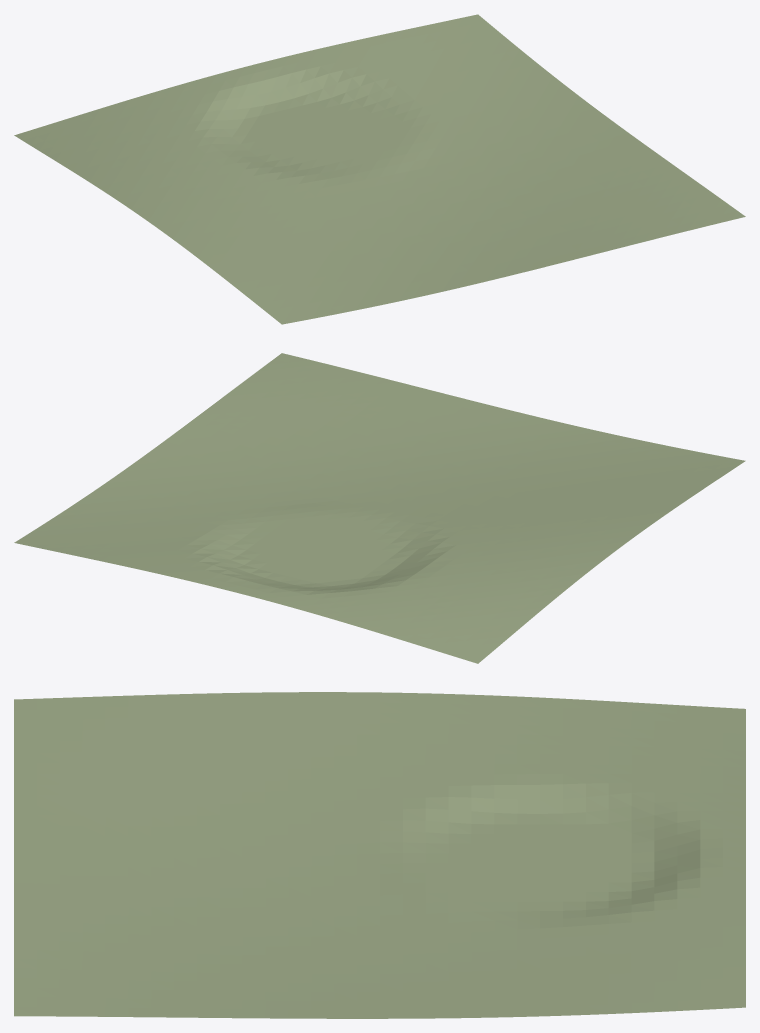
The model's file is coast-1-2.glb.
3 views of the same model, one above another, from view 1: azimuth 30°, elevation 25°; view 2: azimuth 150°, elevation 25°; view 3: azimuth 270°, elevation 25° (orthographic). The views are drawn at different scales.
Parts seen in each view (by area): view 1: coast-1-2; view 2: coast-1-2; view 3: coast-1-2.
Part boxes in pixels (x1,y1,x2,y2): coast-1-2: (14, 14, 745, 324); coast-1-2: (14, 353, 745, 663); coast-1-2: (14, 692, 745, 1018).
Size of the model in its own units: 128 by 4.37 by 128.
